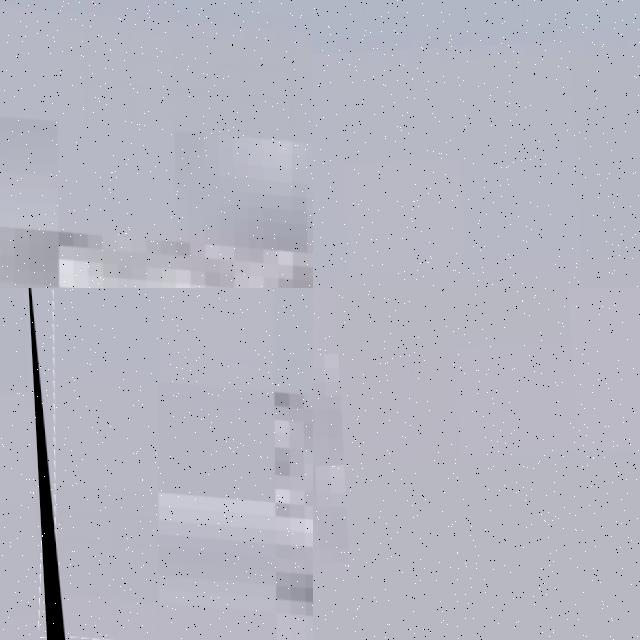drone: (25, 288, 313, 640), (0, 0, 313, 288)
